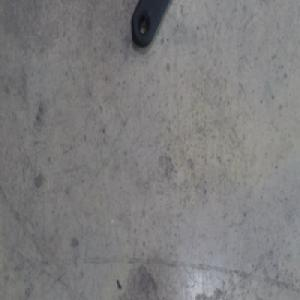AdjustableWrench: (131, 0, 168, 49)
